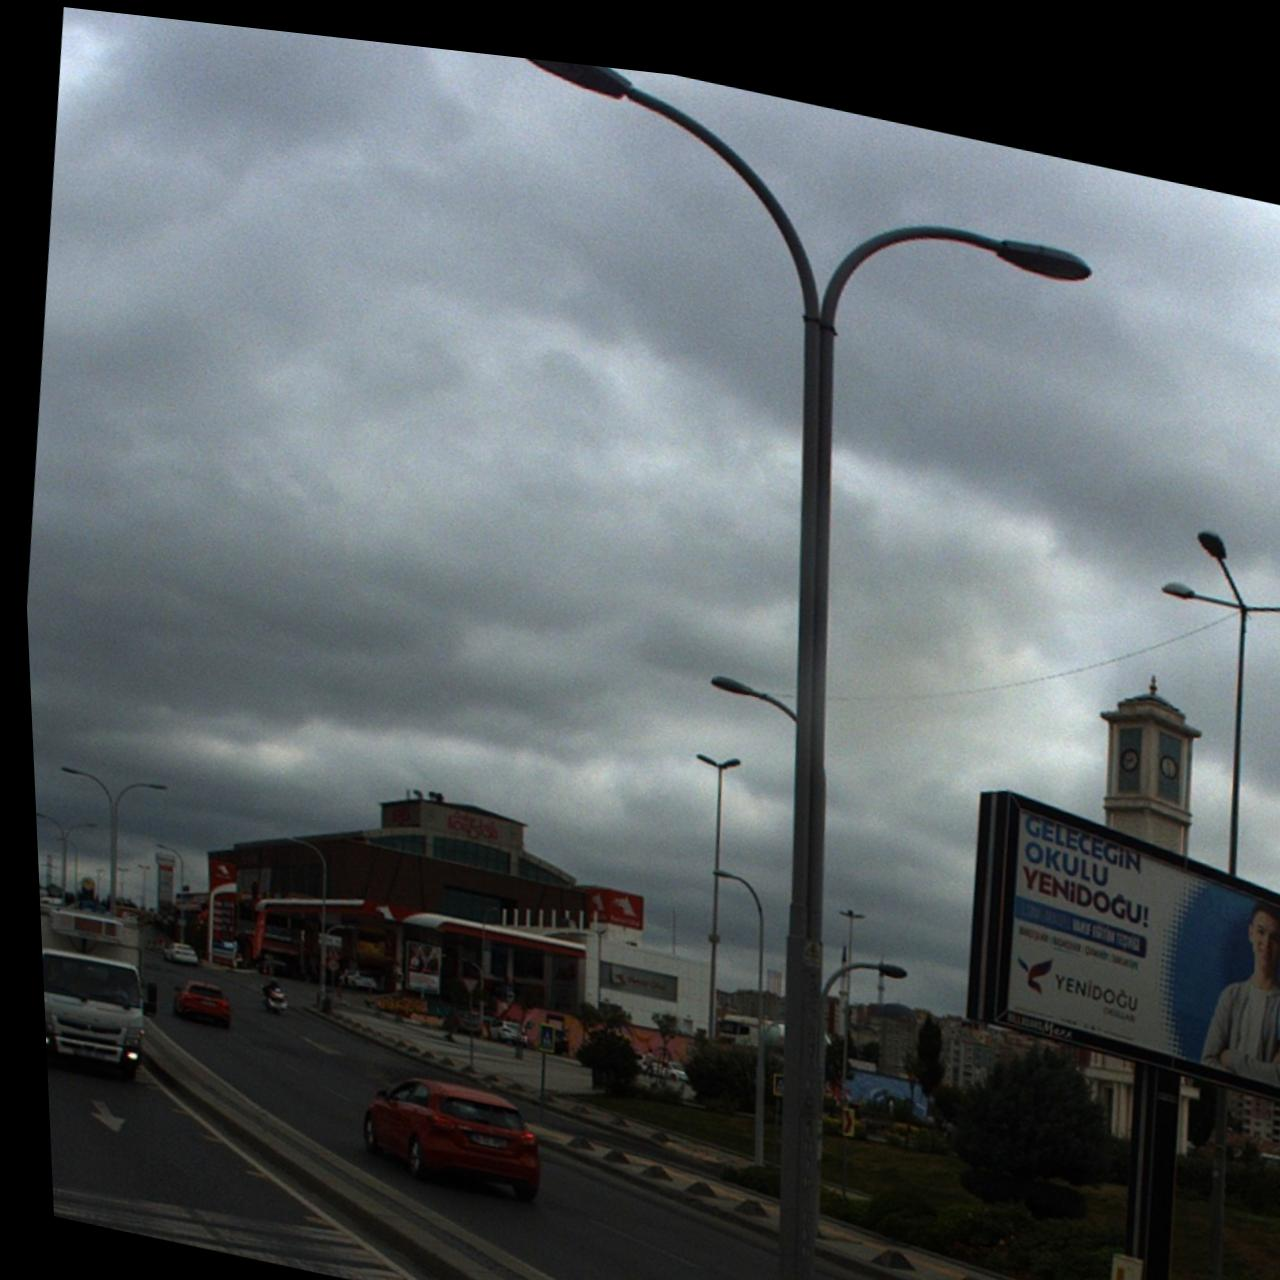SignStore: (413, 792, 517, 839)
